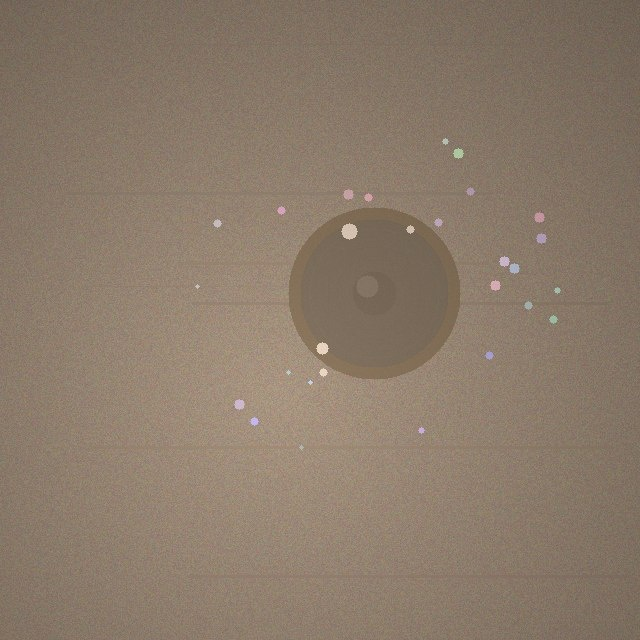overburn: (288, 207, 460, 379)
